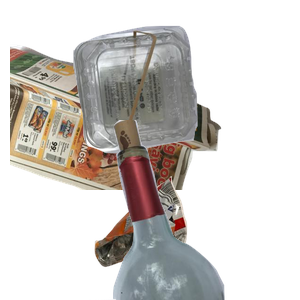glass: (89, 120, 300, 300)
paper: (10, 42, 224, 222)
plastic: (71, 23, 300, 169)
trash: (92, 174, 272, 300)
